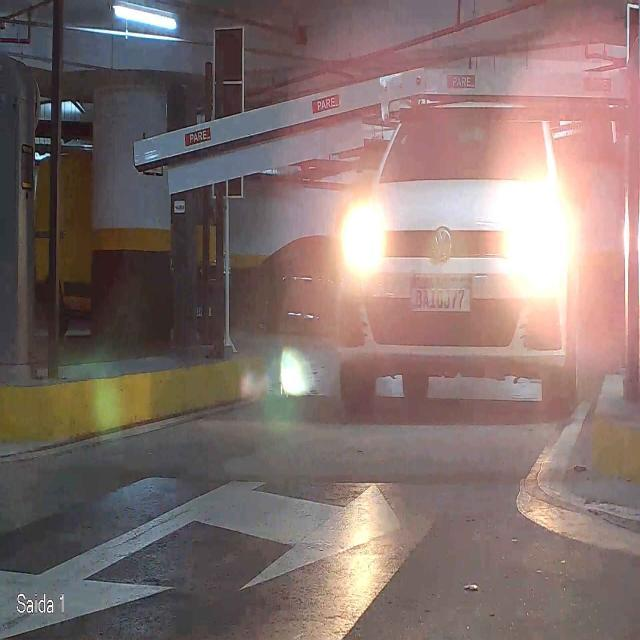mercosul_plate: (409, 276, 473, 314)
